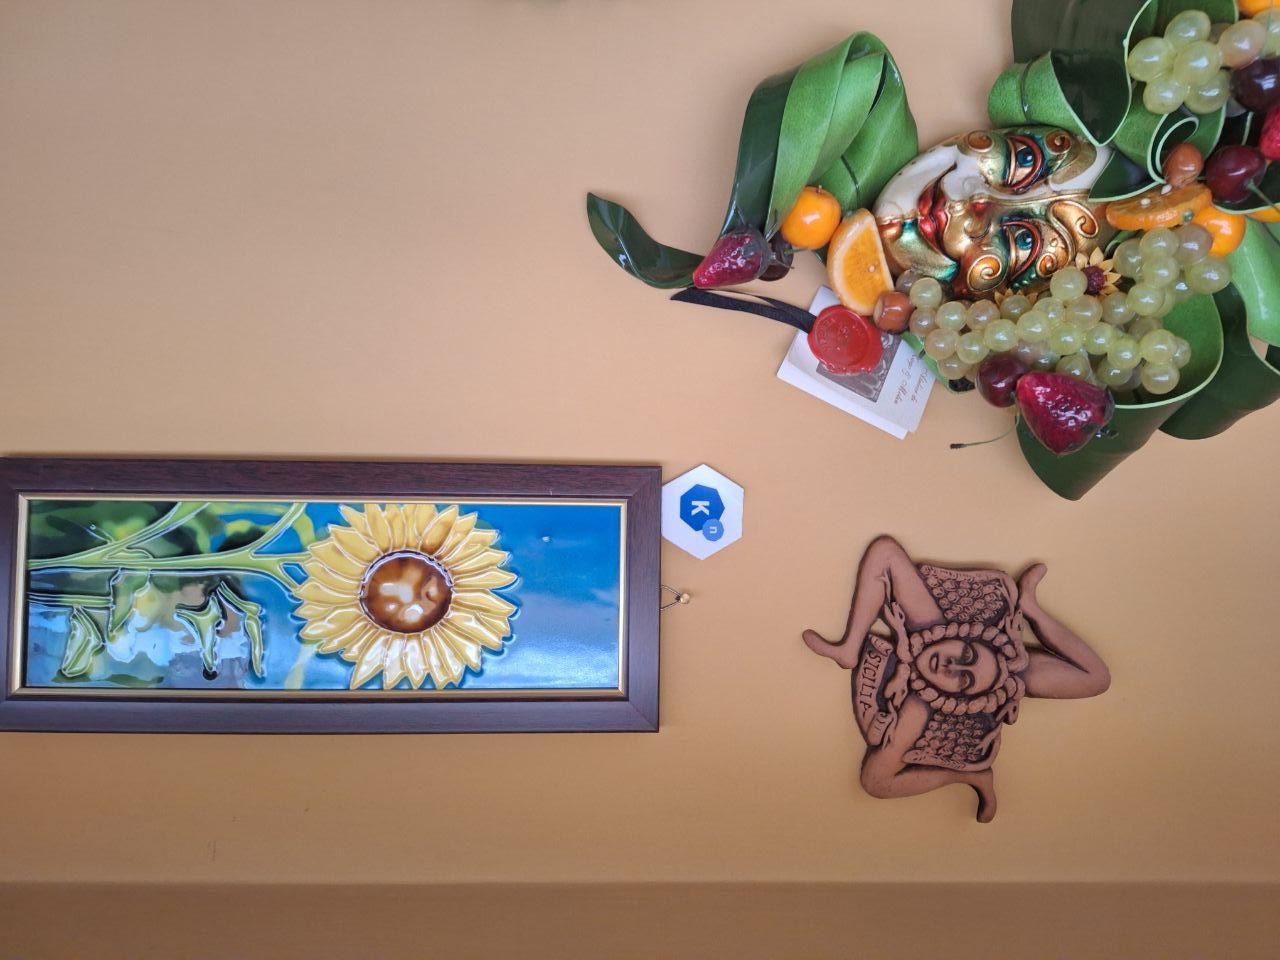knative: (677, 484, 729, 541)
